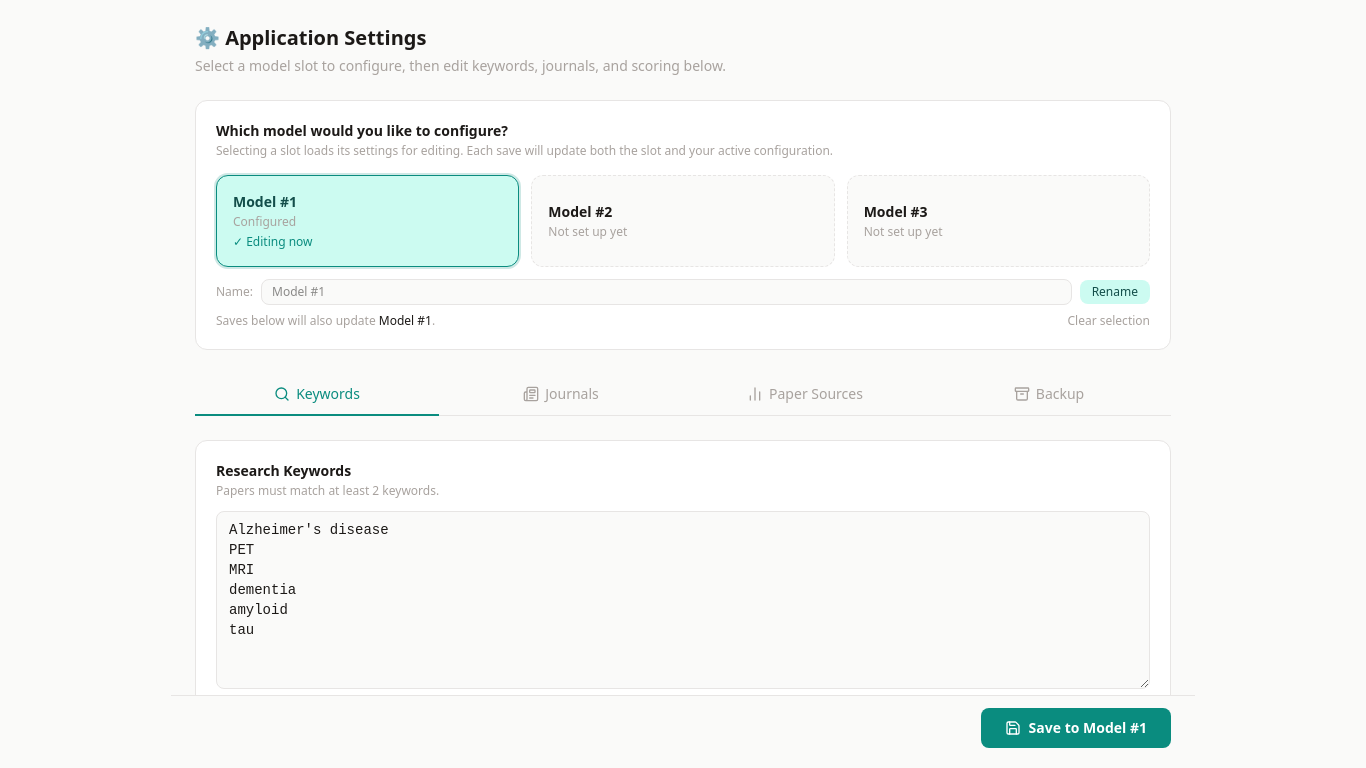
Test: SettingsTab › switches to Backup sub-tab
This screenshot has width=1366, height=768.
What coordinates should you click on to do the following:
click the button "Model #1 Configured ✓ Editing now"
I would click on:
 (265, 202)
Its box is 216,175 -> 519,267.
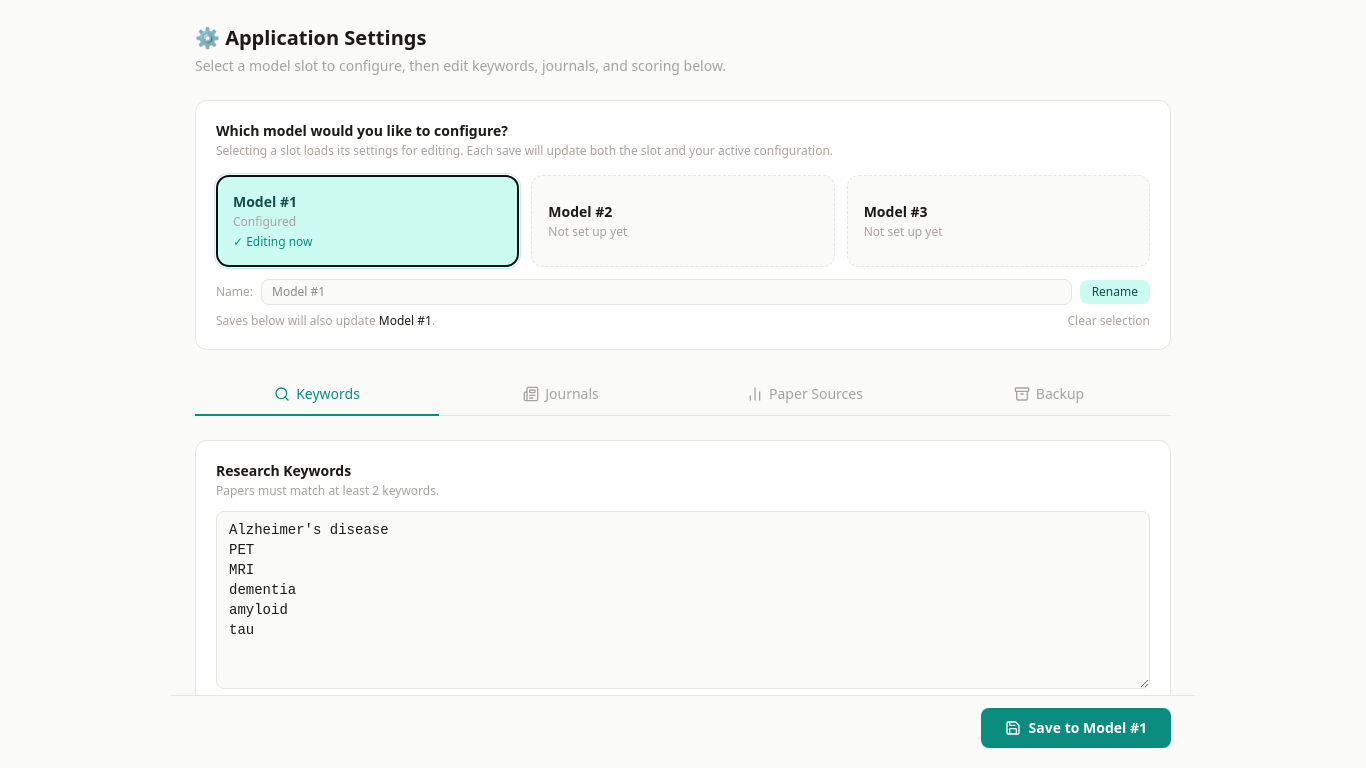
Check: the button "Keywords" is shown, box 195,374 -> 439,416
What coordinates should you click on to do the following:
click the button "Backup"
I would click on:
 (1049, 395)
Its box is 927,374 -> 1171,416.
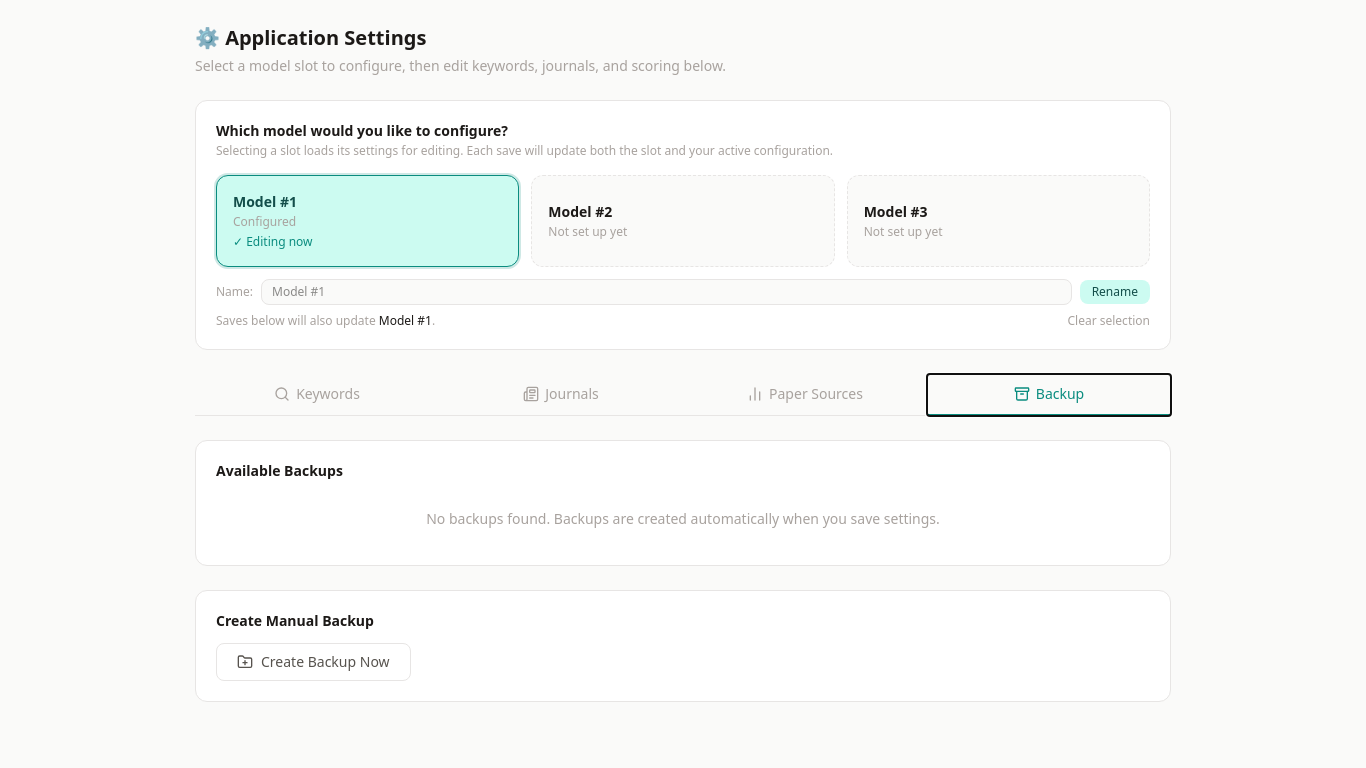
Check: the heading "Available Backups" is shown, box 216,461 -> 343,480
